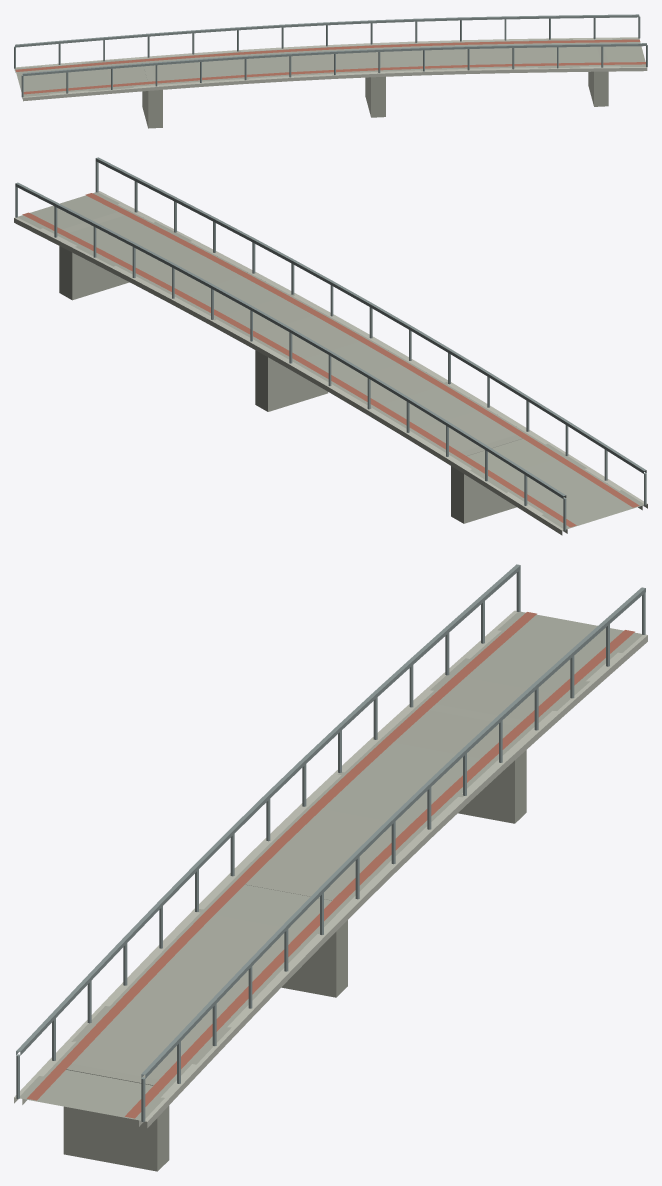
The model's file is infra-lake-bridge-1492215405.glb.
3 views of the same model, one above another, from view 1: azimuth 30°, elevation 25°; view 2: azimuth 150°, elevation 25°; view 3: azimuth 270°, elevation 25° (orthographic). The views are drawn at different scales.
Parts seen in each view (by area): view 1: infra-lake-bridge-1492215405; view 2: infra-lake-bridge-1492215405; view 3: infra-lake-bridge-1492215405.
Part boxes in pixels (<box>): infra-lake-bridge-1492215405: <box>14,14,647,128</box>; infra-lake-bridge-1492215405: <box>14,157,647,535</box>; infra-lake-bridge-1492215405: <box>14,564,647,1171</box>.
Size of the model in its own units: 26.63 by 3.48 by 13.94.
